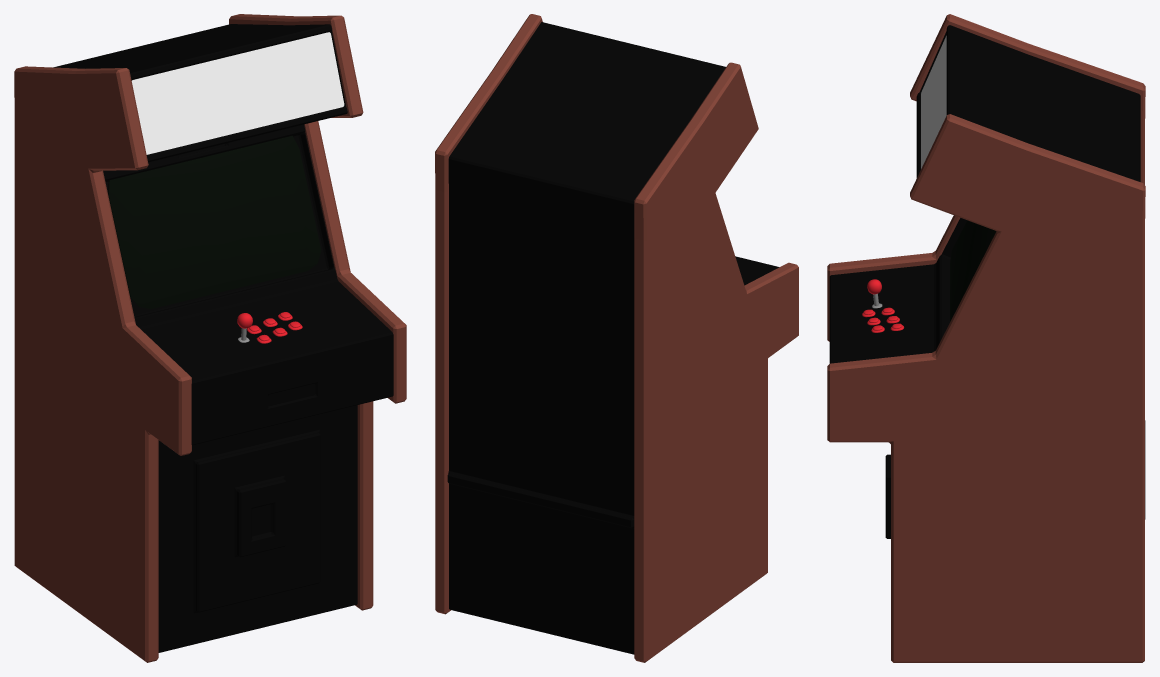
Rendered from aracade_machine.glb.
3 renders of one model, left to right at view 1: azimuth 30°, elevation 25°; view 2: azimuth 150°, elevation 25°; view 3: azimuth 270°, elevation 25°, orthographic. The views are drawn at different scales.
Visible parts, largest first — view 1: Cube.002, Cube.001, Cube.003, Cube.006, Cube.004; view 2: Cube.001, Cube.002; view 3: Cube.002, Cube.001, Cube.003, Cube.006, Cube.004.
Boxes of the visible parts, <box> form: Cube.002: <box>14,14,406,662</box>; Cube.001: <box>53,24,393,652</box>; Cube.003: <box>108,135,321,309</box>; Cube.006: <box>131,32,344,154</box>; Cube.004: <box>237,312,302,343</box>; Cube.001: <box>447,22,779,654</box>; Cube.002: <box>435,14,798,662</box>; Cube.002: <box>827,14,1145,662</box>; Cube.001: <box>829,25,1145,538</box>; Cube.003: <box>950,220,996,321</box>; Cube.006: <box>921,35,946,168</box>; Cube.004: <box>862,279,904,332</box>.
Size of the model in its own units: 1.02 by 2.44 by 1.29.
